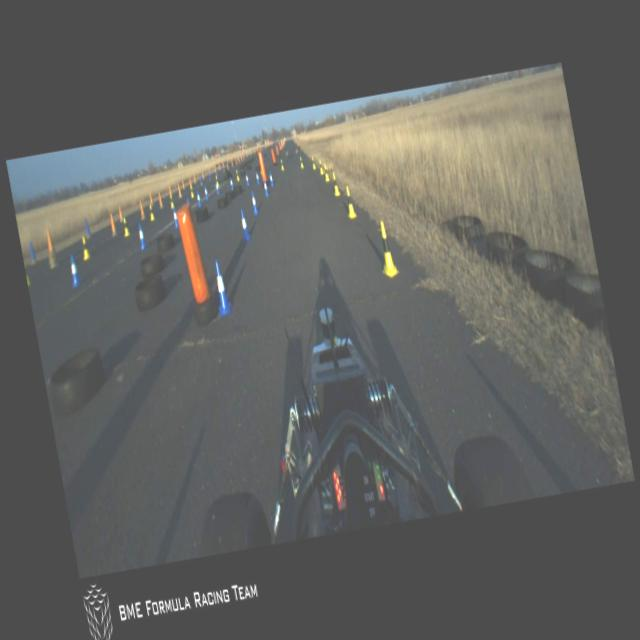blue_cone: (209, 258, 234, 318), (66, 254, 82, 288), (238, 208, 251, 243), (136, 223, 147, 250), (248, 190, 258, 215), (171, 206, 179, 228), (261, 178, 269, 197), (195, 188, 202, 208), (243, 171, 250, 187), (268, 170, 274, 188), (214, 180, 220, 197), (203, 184, 209, 201), (254, 170, 260, 186), (228, 176, 234, 192)
unknown_cone: (43, 225, 58, 267), (109, 212, 118, 237), (28, 240, 37, 265), (84, 218, 91, 238), (138, 198, 144, 218), (118, 204, 124, 222), (156, 190, 162, 208), (176, 182, 182, 198), (148, 190, 152, 203), (199, 173, 203, 186), (168, 182, 172, 194), (181, 179, 185, 189), (188, 177, 192, 186), (201, 168, 204, 180), (193, 174, 196, 184)
yellow_cone: (374, 219, 399, 279), (342, 183, 358, 220), (79, 234, 91, 260), (330, 172, 340, 196), (120, 215, 130, 238), (147, 202, 155, 222), (322, 162, 329, 182), (310, 153, 316, 170), (317, 158, 323, 174), (168, 193, 174, 209), (233, 169, 240, 182), (298, 156, 304, 169), (278, 158, 284, 171), (188, 185, 194, 198), (214, 174, 219, 187)
